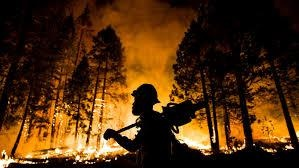fire: (1, 78, 127, 162)
